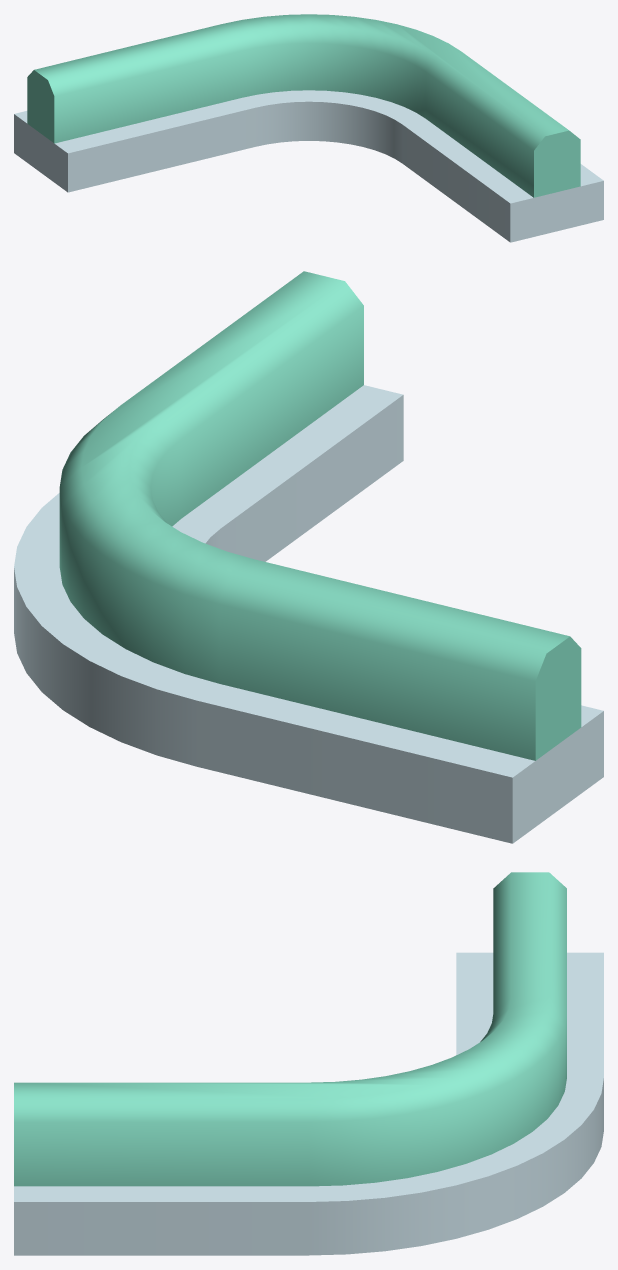
3 views of the same model, one above another, from view 1: azimuth 30°, elevation 25°; view 2: azimuth 150°, elevation 25°; view 3: azimuth 270°, elevation 25° (orthographic). The views are drawn at different scales.
Visible parts, largest first — view 1: hedgeCurved; view 2: hedgeCurved; view 3: hedgeCurved.
Part boxes in pixels (x1=…): hedgeCurved: x1=14, y1=14, x2=603, y2=242; hedgeCurved: x1=14, y1=271, x2=603, y2=843; hedgeCurved: x1=14, y1=872, x2=603, y2=1255.
Bounding box in the file's own units: 1 × 0.25 × 1.
